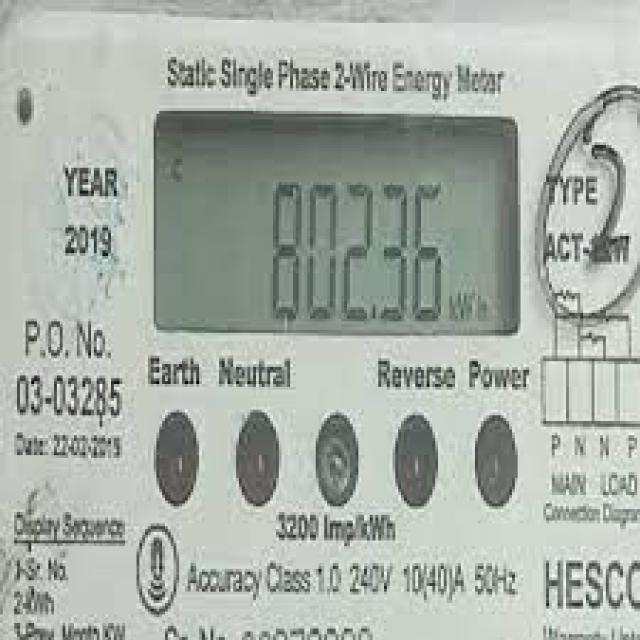.: (366, 304, 382, 321)
0: (305, 176, 340, 321)
2: (340, 176, 374, 322)
3: (379, 176, 410, 322)
6: (411, 176, 445, 322)
8: (260, 176, 304, 322)
Digital meter: (156, 121, 516, 332)
